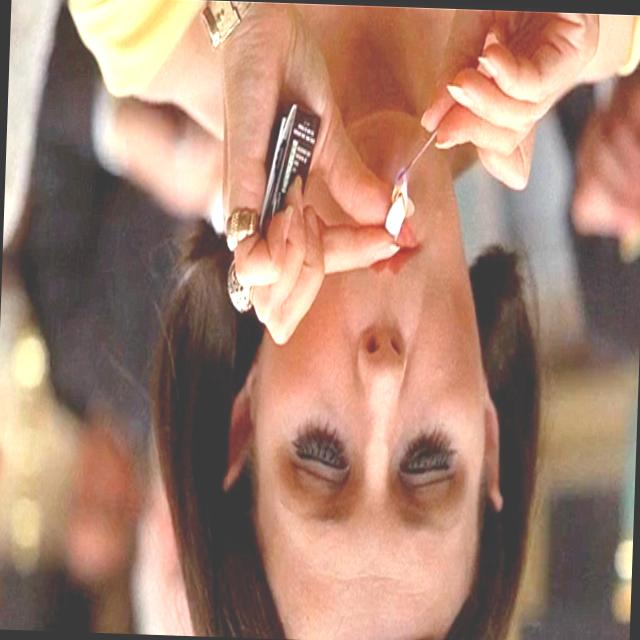cigarette: (356, 132, 430, 267)
